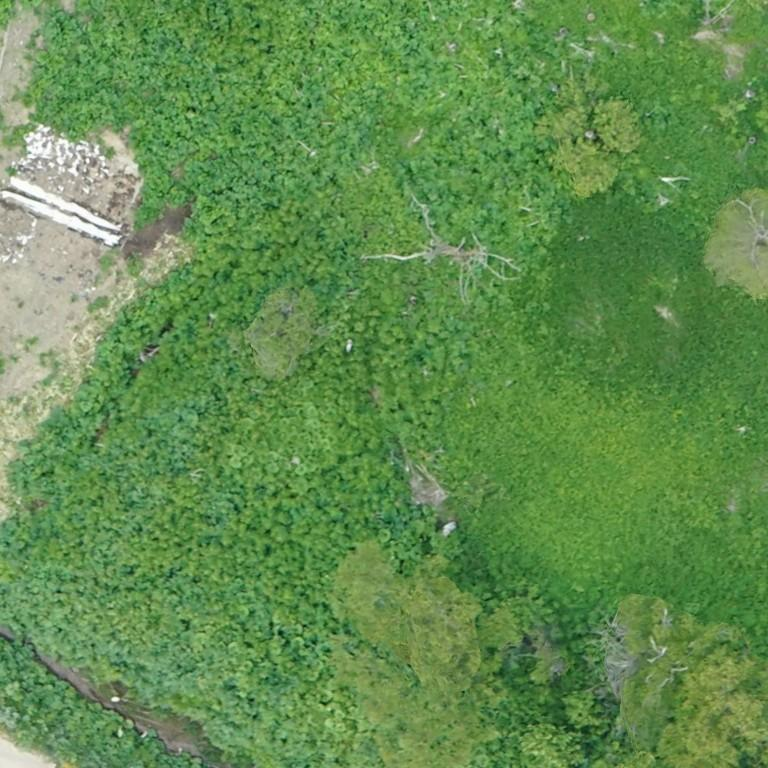hogweed: (24, 0, 572, 263), (0, 638, 193, 767), (78, 396, 213, 534), (0, 584, 106, 669), (151, 649, 219, 695), (199, 481, 243, 545), (39, 409, 73, 451), (29, 565, 71, 588), (12, 459, 32, 492), (0, 521, 15, 553)
